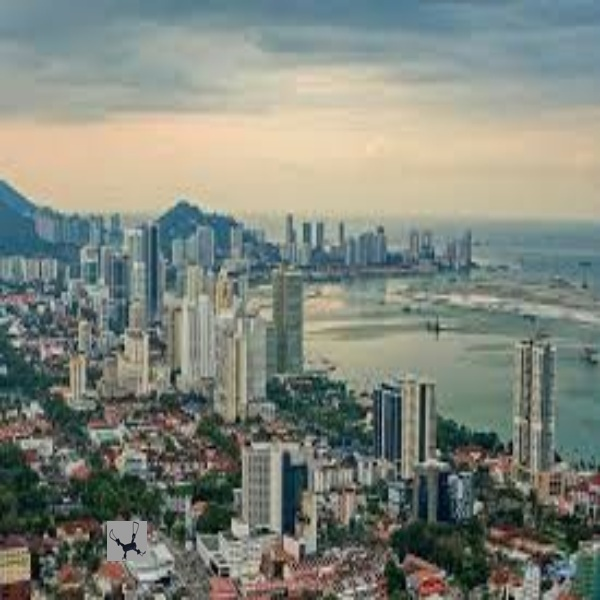drone: (107, 522, 145, 560)
